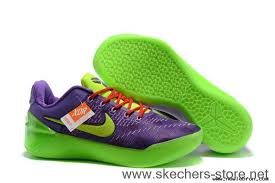nike: (41, 108, 117, 139)
